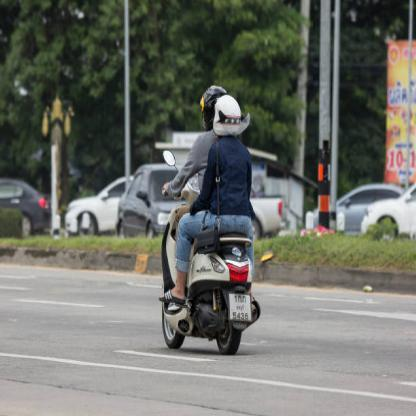Motorcycle: (152, 164, 261, 358)
